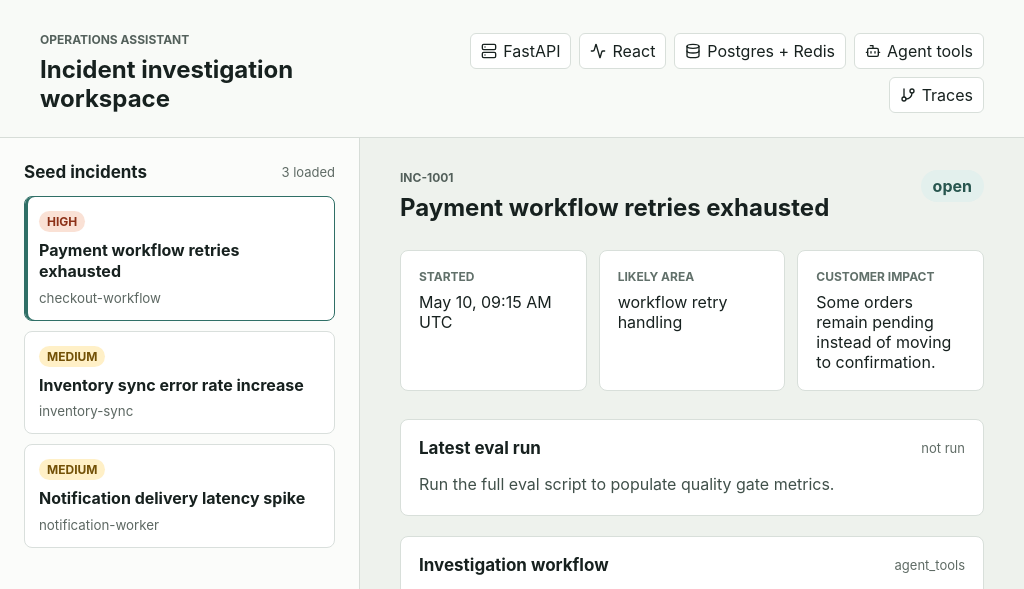
Test case: App › updates the detail panel when a different incident is selected
Click the button "medium Inventory sync error rate increase inventory-sync" at (180, 382), box [24,331,335,434]
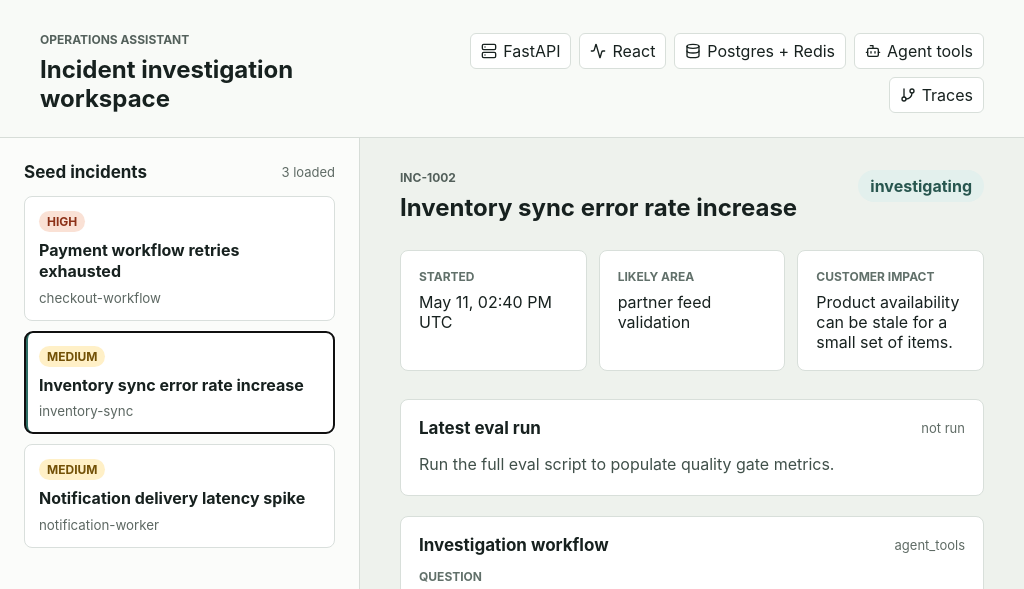
Result: the heading "Inventory sync error rate increase" is shown at [400,193,797,222]
Result: the text "partner feed validation" is shown at [618,292,711,332]
